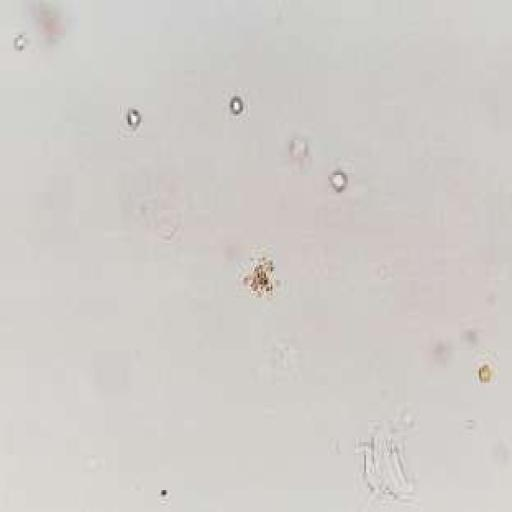CFU-E: (243, 256, 277, 295)
